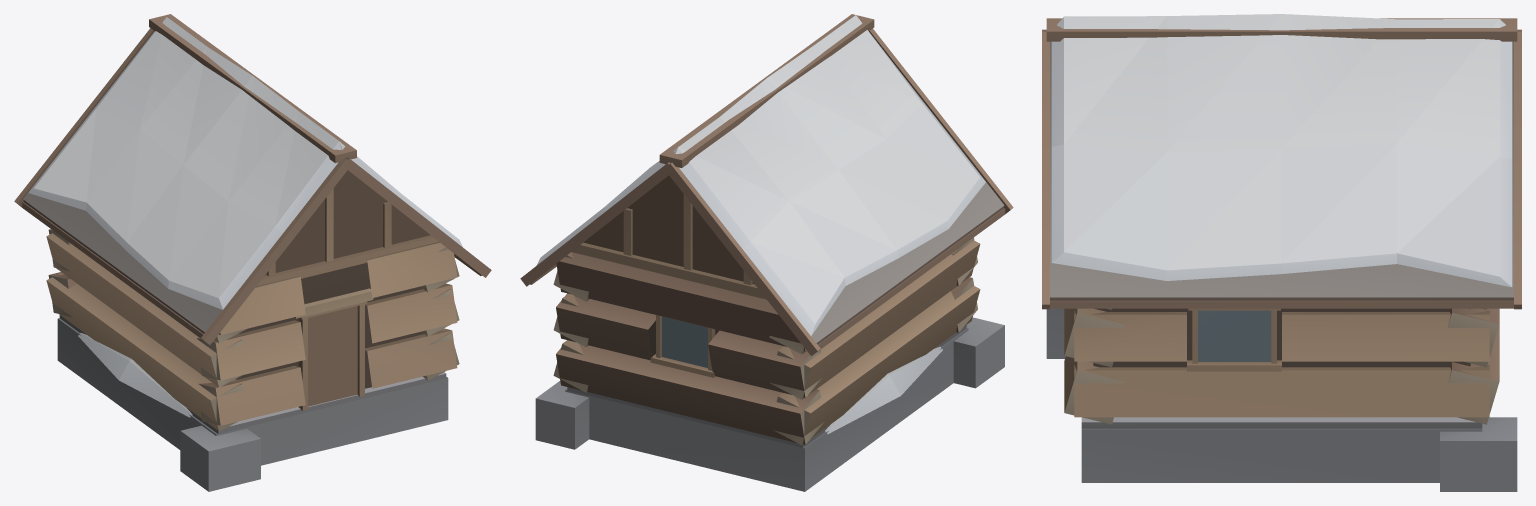
The model's file is logcabin.lod1.glb.
3 renders of one model, left to right at view 1: azimuth 30°, elevation 25°; view 2: azimuth 150°, elevation 25°; view 3: azimuth 270°, elevation 25°, orthographic. The views are drawn at different scales.
Bounding box in the file's own units: 7.44 × 7.77 × 8.5.
